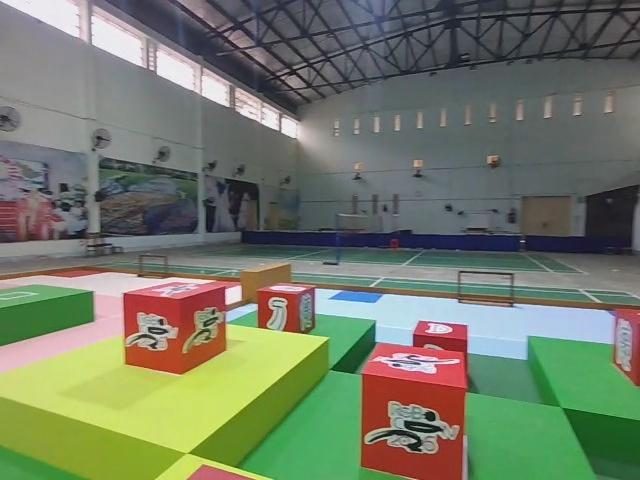R1: (359, 338, 468, 480), (120, 277, 229, 376)
R2 Fake: (254, 281, 319, 336), (611, 305, 640, 389)
